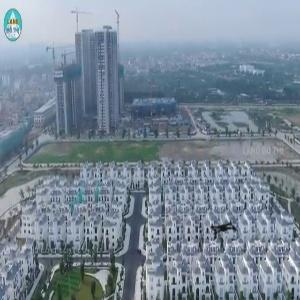drone: (184, 190, 263, 269)
